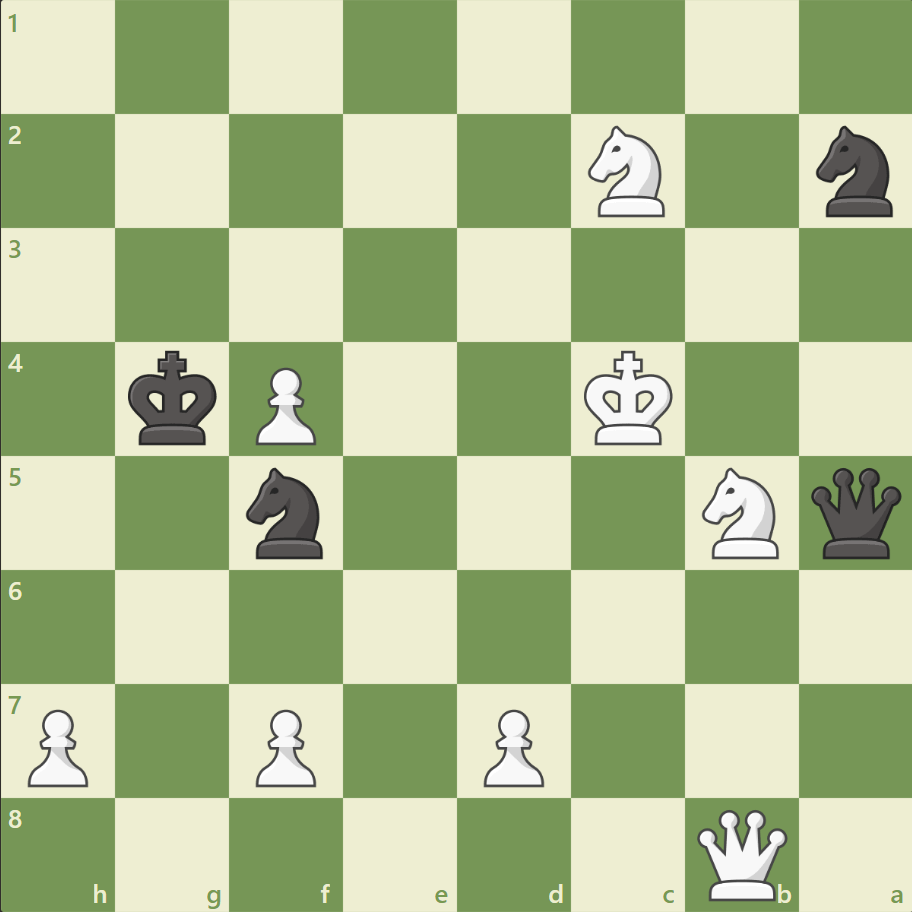K: (579, 344, 679, 452)
N: (692, 461, 789, 564), (579, 121, 676, 223)
P: (474, 700, 549, 791), (247, 700, 322, 791), (20, 700, 95, 791), (247, 359, 322, 450)
Q: (691, 804, 790, 903)
k: (124, 344, 224, 452)
n: (238, 461, 335, 564), (806, 121, 903, 223)
q: (805, 463, 904, 562)
